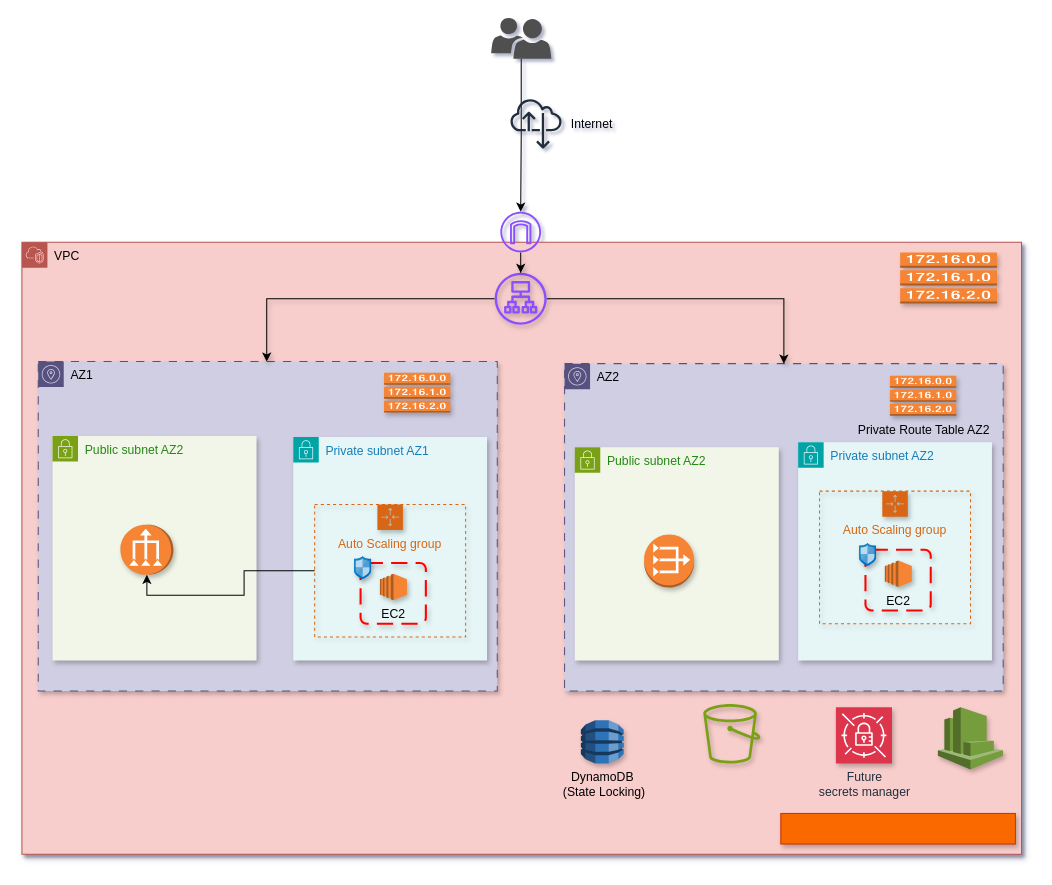
Some shapes in this 1052 by 885 pixel diagram are drawn without their labels. The shapes that lost their labels are listed below. From the top down, each one's centre as x and y in pixels, then its label:
At point 521,37: "Users".
At point 949,279: "Public Route Table".
At point 521,300: "ALB".
At point 417,394: "Private Route Table AZ1".
At point 732,735: "S3 (Terraform Remote State)".
At point 971,739: "CloudWatch Metrics + Alarms".
At point 899,829: "Create with ❤️ by Tanishka for ONDC!".
